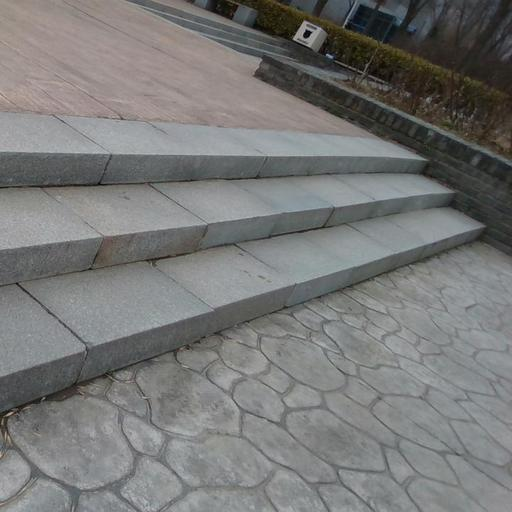stairs: (0, 114, 482, 409), (128, 0, 327, 63)
